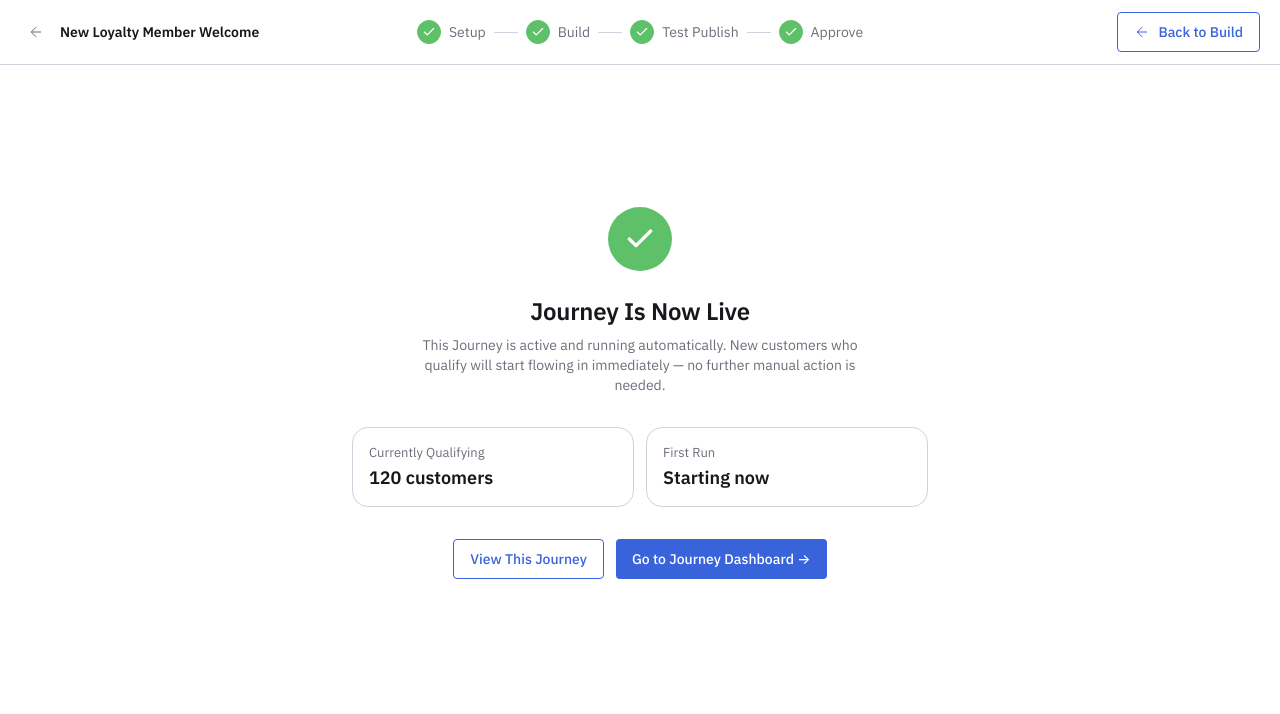
Test: "View This Journey" links to the real Journey Details page
Expected: the heading "Journey Is Now Live" is shown, [530,294,750,326]
Click the link "View This Journey": click(529, 558) [453,538,604,578]
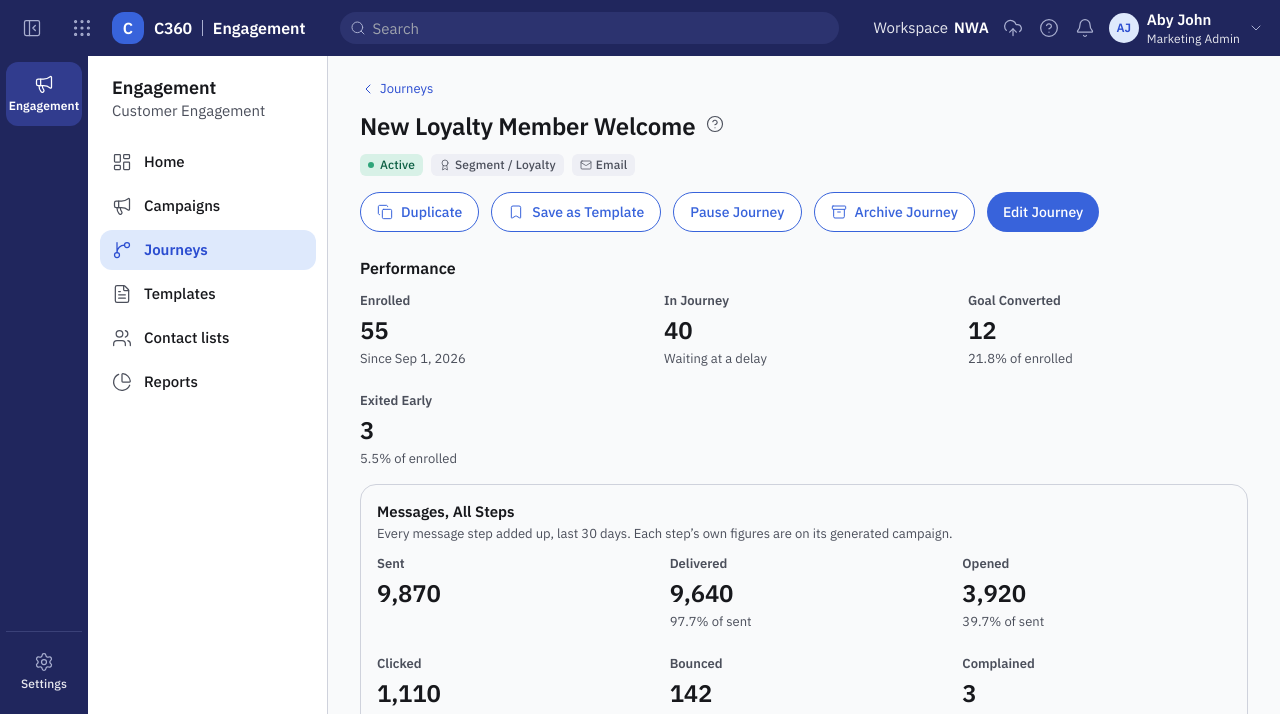
Expected: the heading "New Loyalty Member Welcome" is shown, [360,110,695,142]
Expected: the heading "Performance" is shown, [360,258,456,278]
